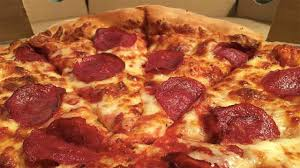pizza: (7, 17, 300, 168)
